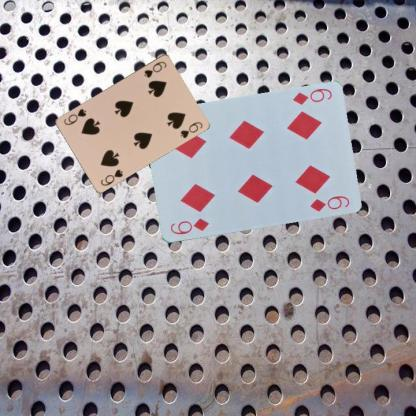6d: (290, 86, 333, 107), (168, 216, 210, 236)
6s: (142, 58, 168, 80), (98, 166, 124, 186)
